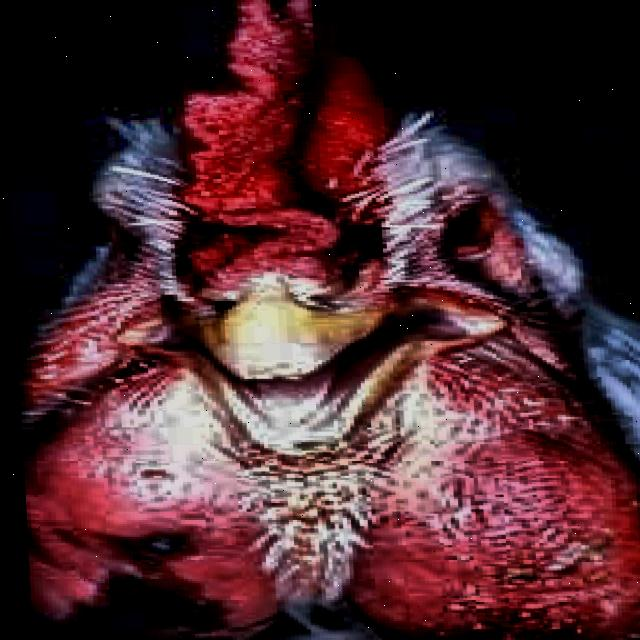Fowl cholera: (3, 78, 640, 640)
